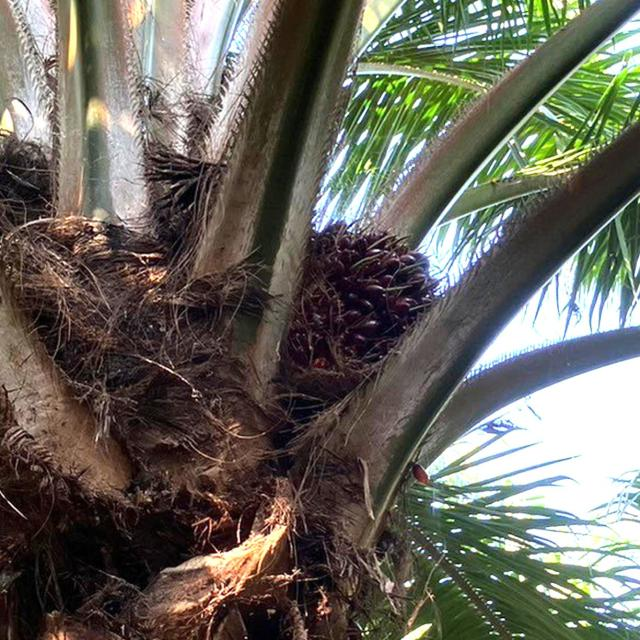ripe: (294, 225, 432, 399)
